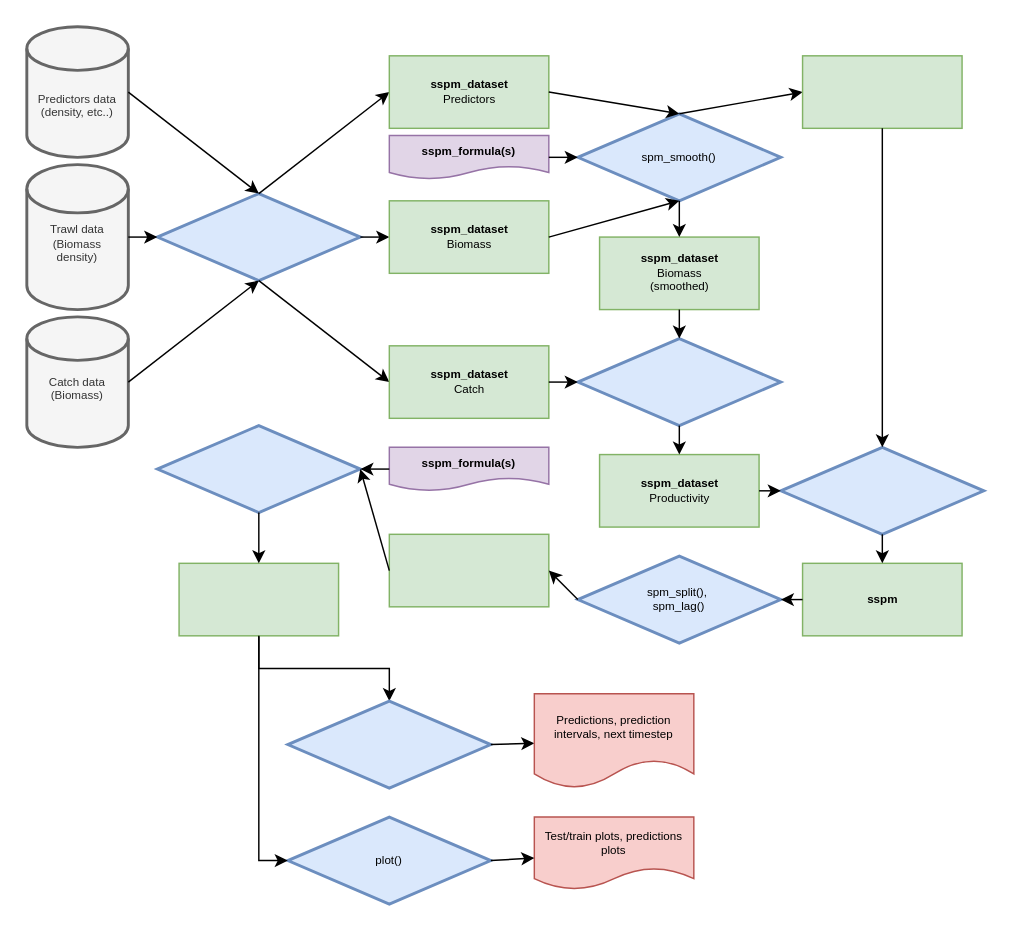
The diagram is 1009 pixels wide and 929 high, and some of its shapes have lost their labels. Here are the shapes that lost their labels. From the top down, the box of each, then its label:
(801, 54, 962, 128): sspm_dataset Predictors (smoothed)
(155, 191, 361, 281): spm_as_dataset()
(576, 336, 782, 426): spm_aggregate_ catch()
(155, 423, 361, 513): fit()
(779, 445, 985, 535): sspm()
(388, 533, 549, 607): sspm Test/Train data + lagged variables
(178, 562, 339, 636): sspm (with fit)
(286, 699, 492, 789): predict()
